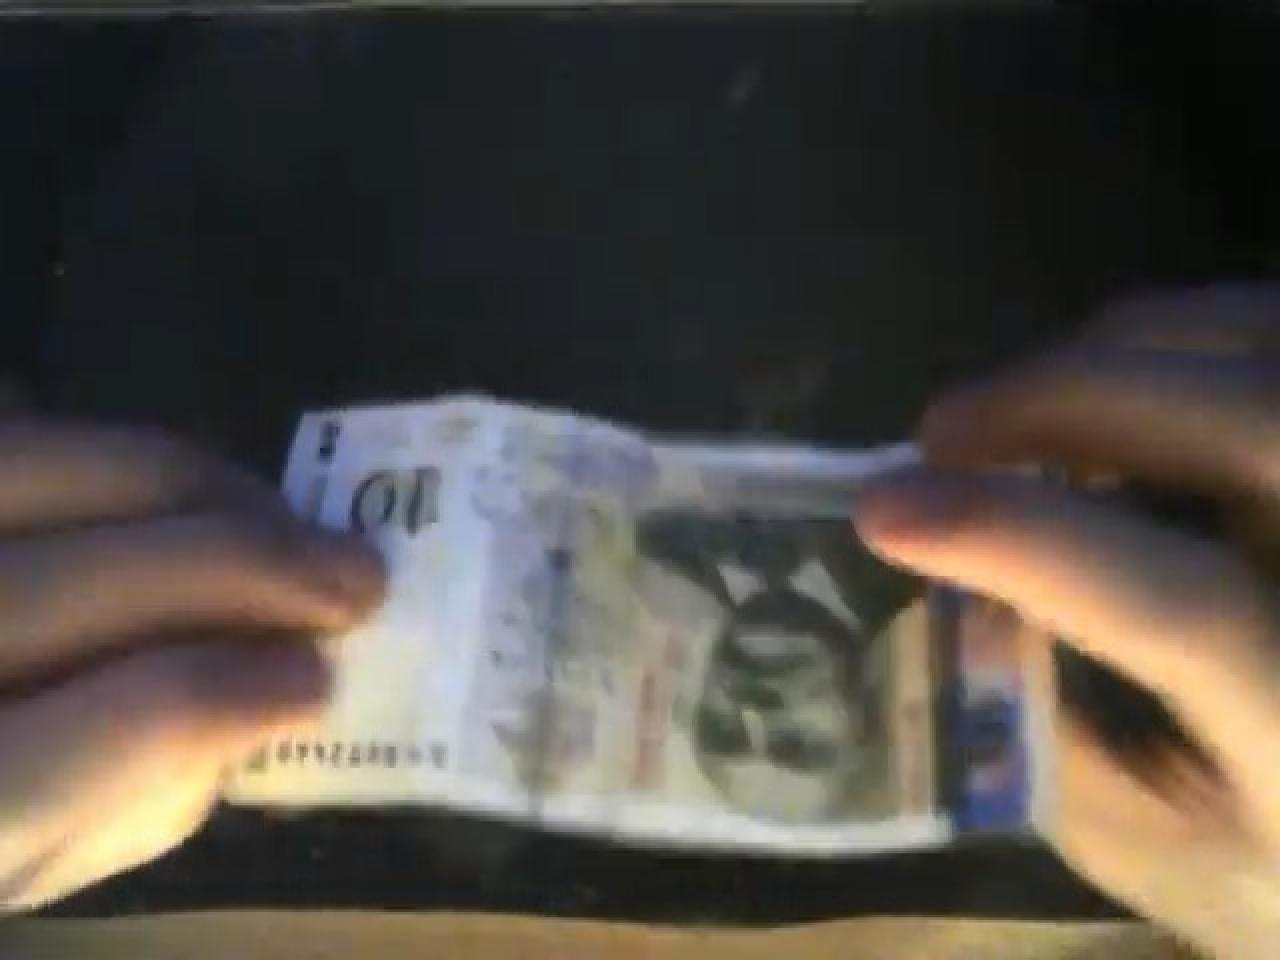10leva: (220, 386, 962, 853)
